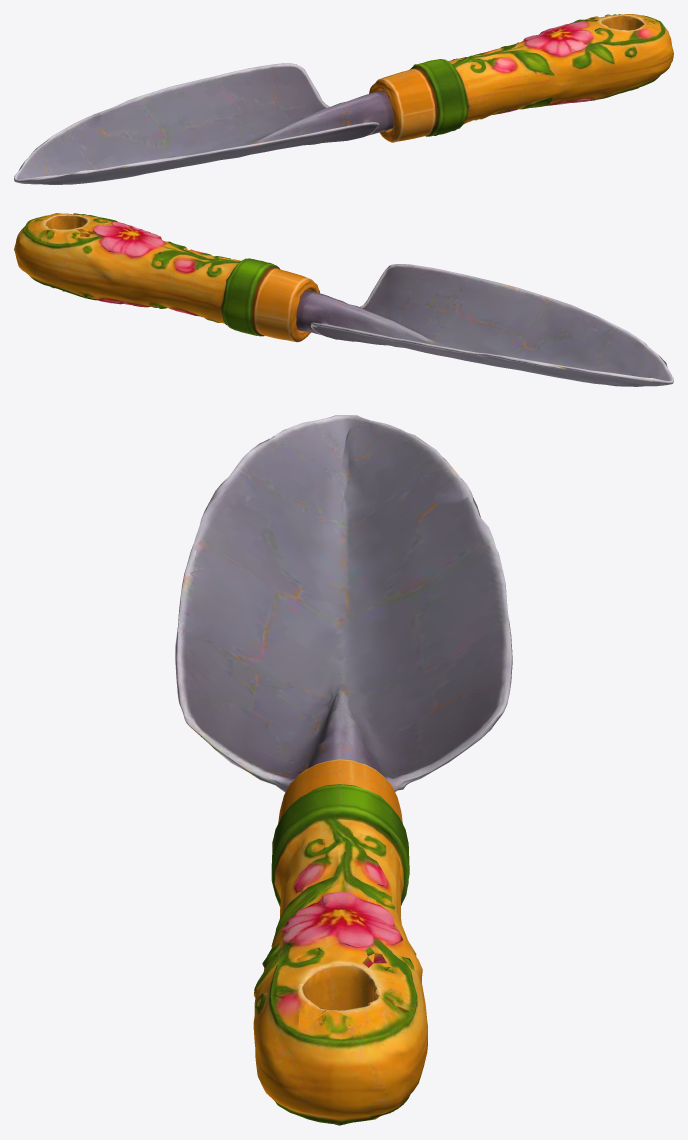
The model's file is trowel.glb.
3 renders of one model, top to bottom at view 1: azimuth 30°, elevation 25°; view 2: azimuth 150°, elevation 25°; view 3: azimuth 270°, elevation 25°, orthographic. The views are drawn at different scales.
Parts seen in each view (by area): view 1: geometry_0; view 2: geometry_0; view 3: geometry_0.
Boxes of the visible parts, x1=… form: geometry_0: x1=14, y1=14, x2=673, y2=184; geometry_0: x1=14, y1=213, x2=673, y2=386; geometry_0: x1=175, y1=415, x2=512, y2=1125.
Size of the model in its own units: 0.9531 by 0.1001 by 0.2139.
Materials: 1 (1 with a texture image).
